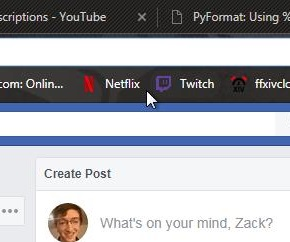cursor: (140, 88, 162, 113)
